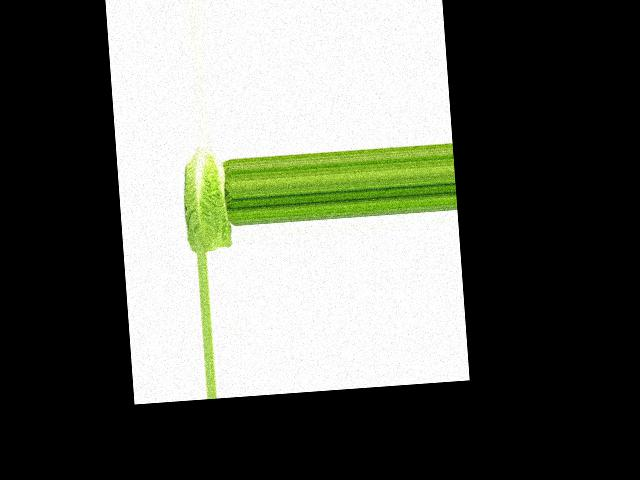lettuce: (173, 146, 231, 255)
